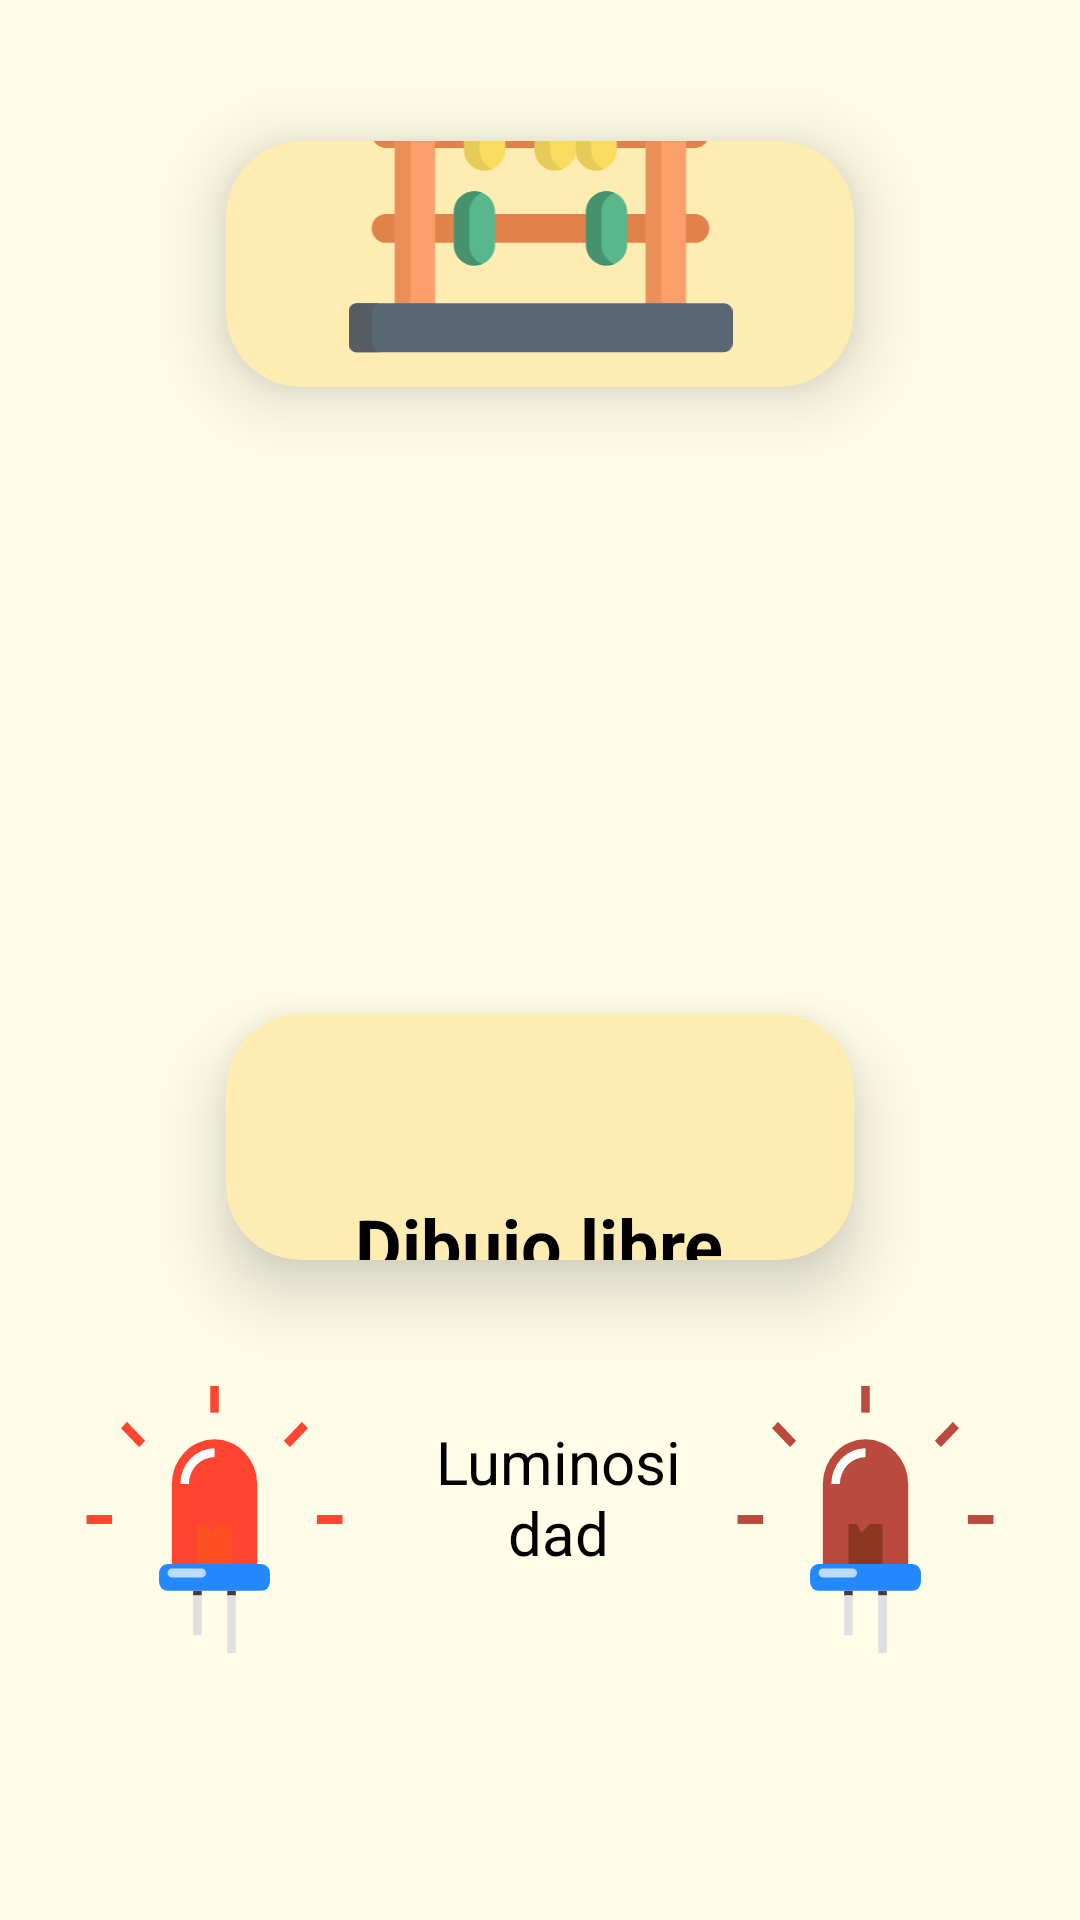

Where icons sit on this 1080x1920 app screen, as (x1, y1, x2, y2):
led: (86, 1386, 343, 1653), (737, 1386, 994, 1653)
